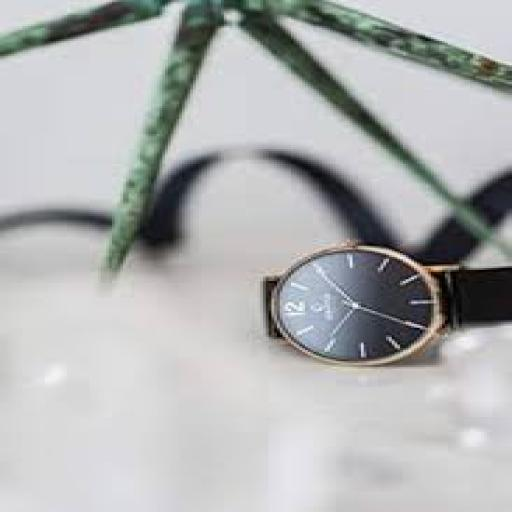KolSaati: (201, 192, 512, 393)
